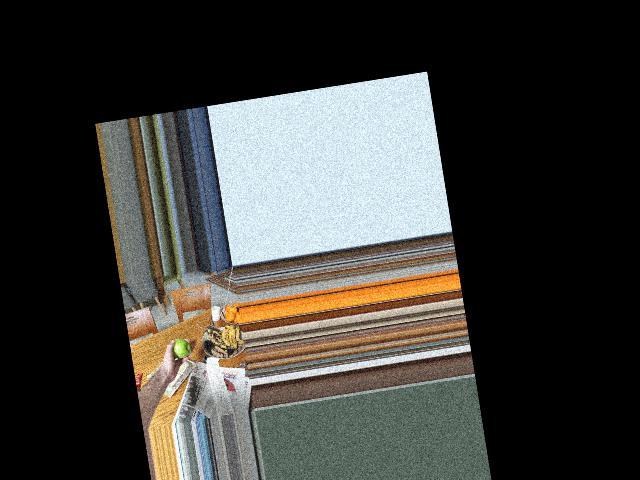apple: (165, 334, 191, 362)
